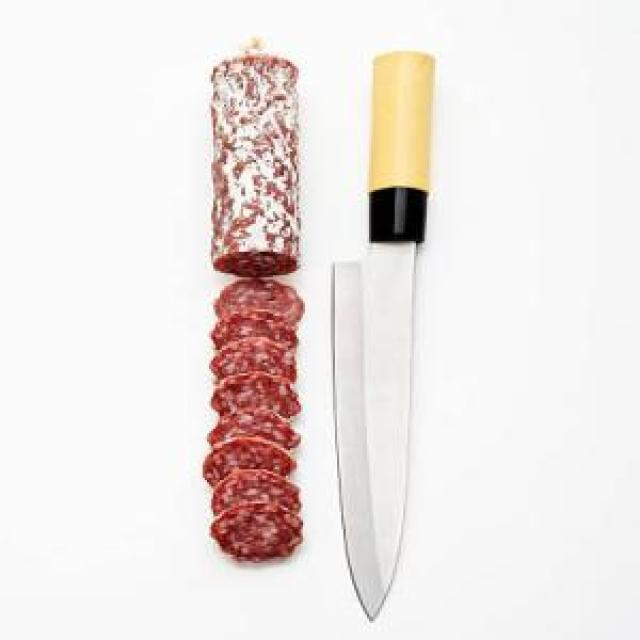knife: (324, 51, 465, 625)
